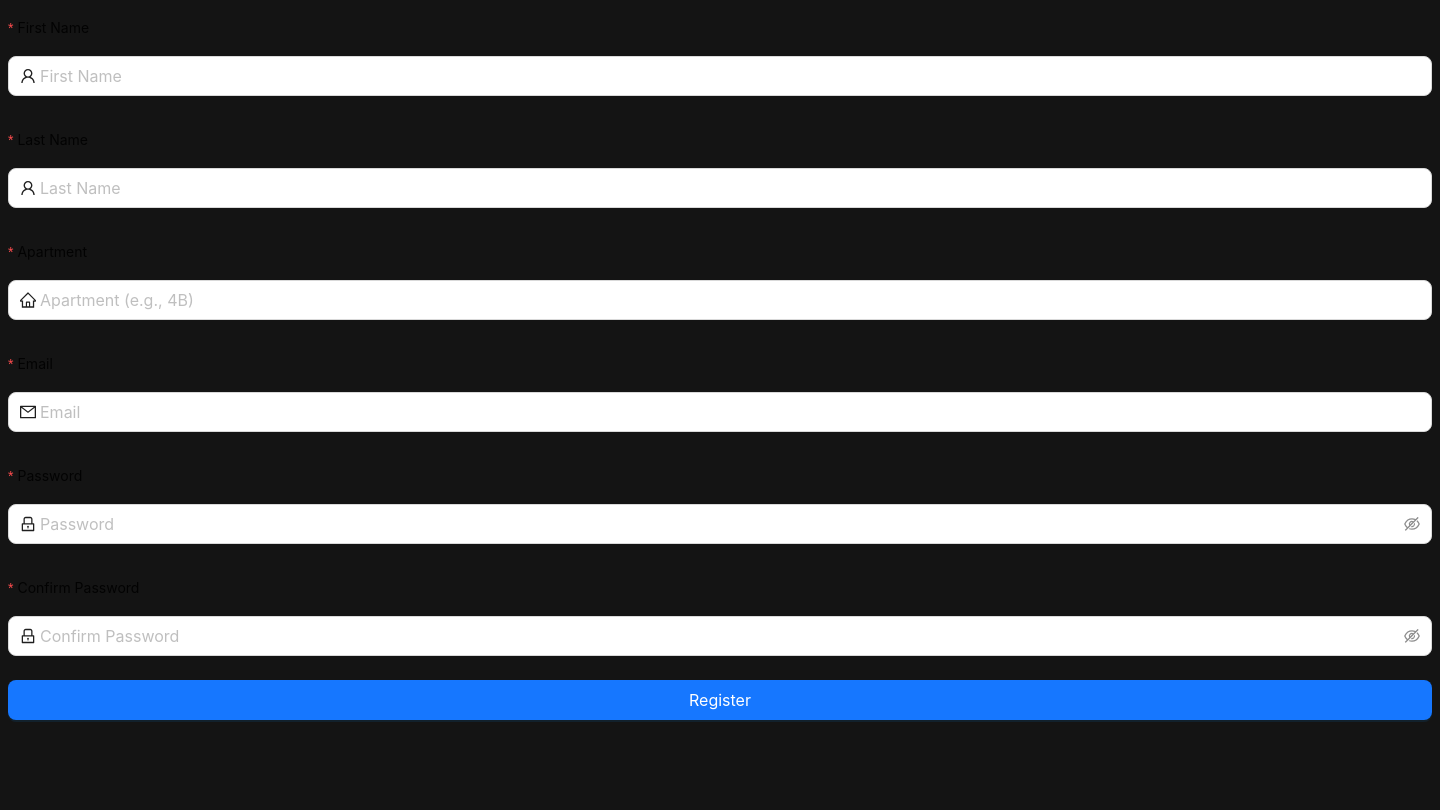
it: RegisterForm › should show an error when the password does not contain uppercase
Type "test123" into the password field labelled "Password" at (720, 524), box [40, 512, 1400, 536]
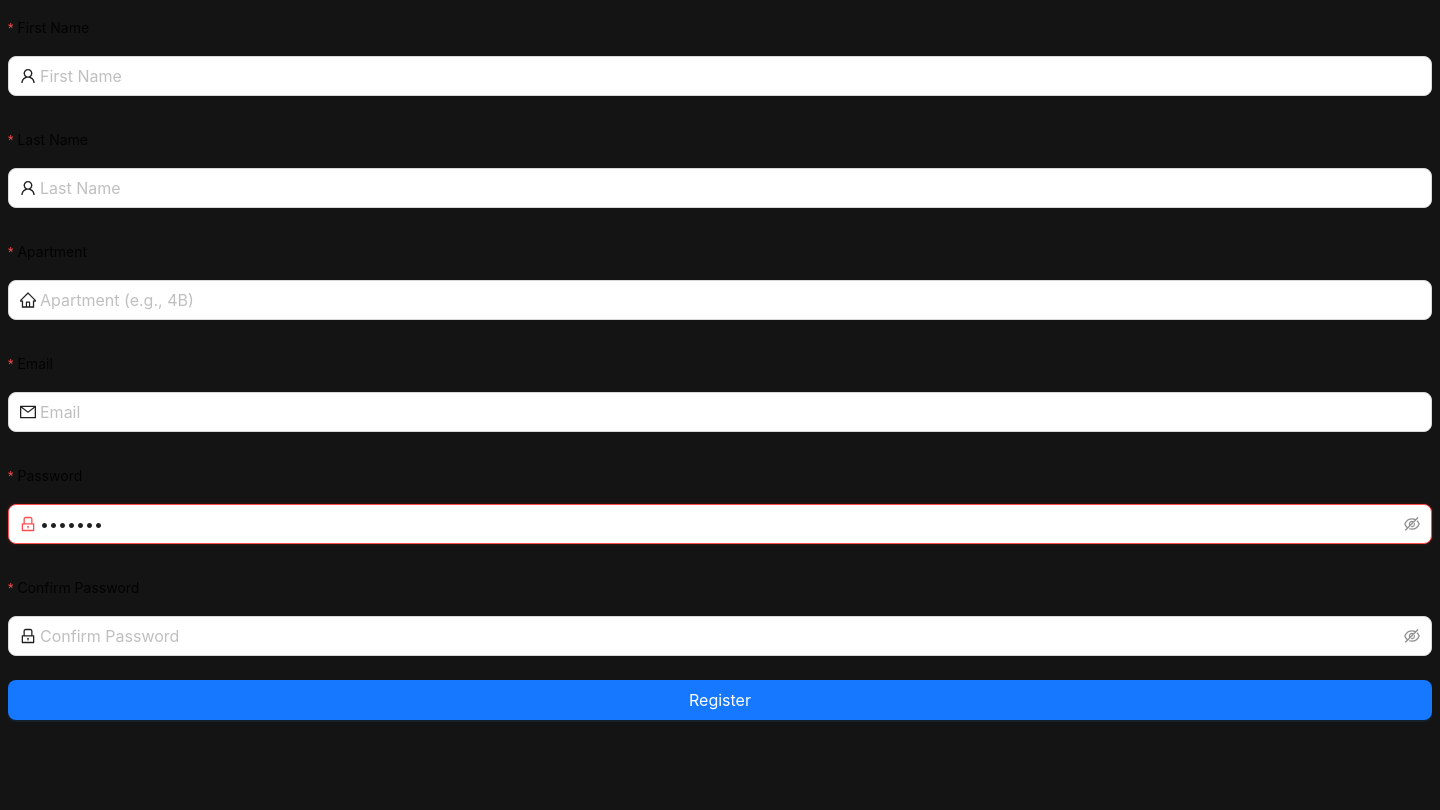
Click the button "Register" at (720, 700), box [8, 680, 1432, 720]
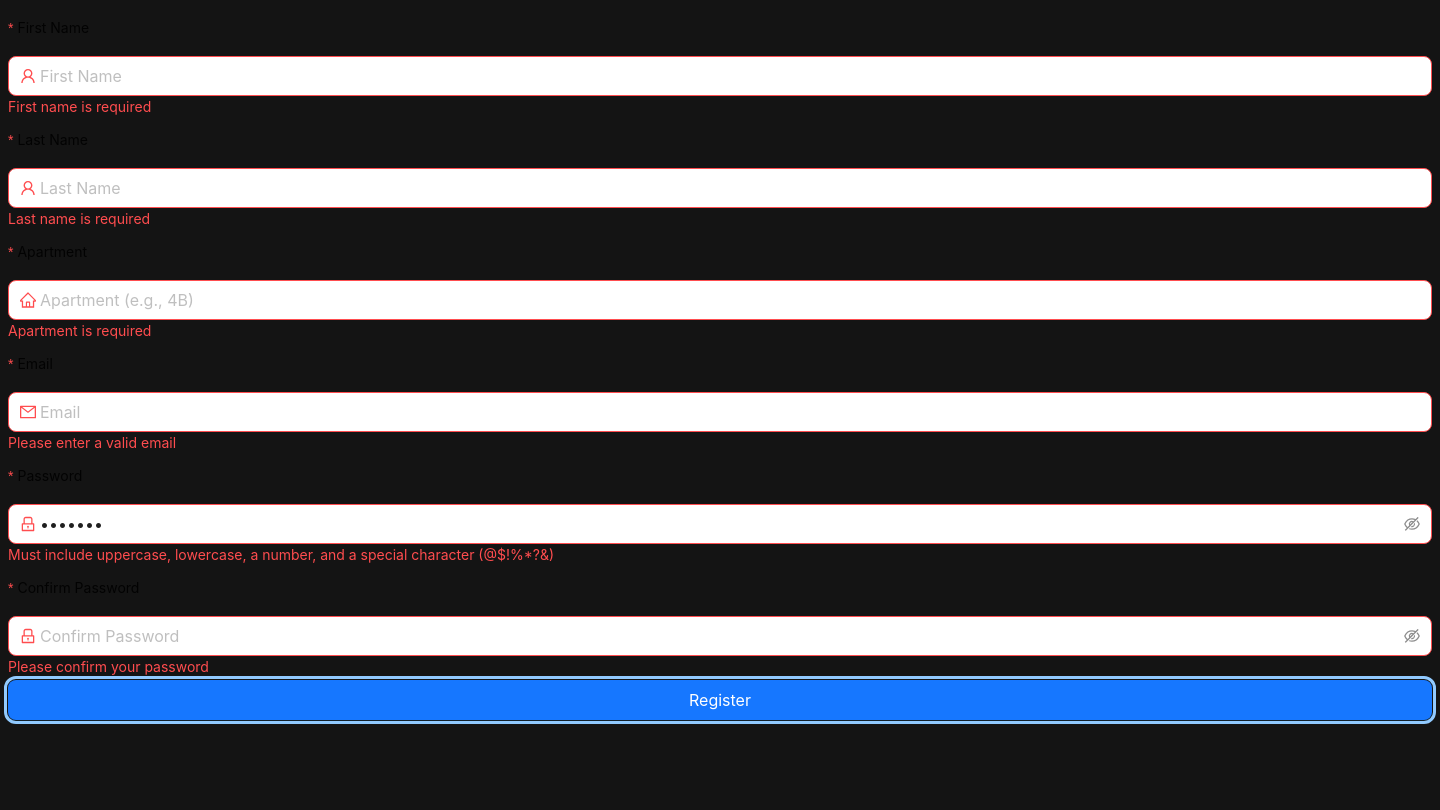
Now the text "Must include uppercase, lowercase, a number, and a special character (@$!%*?&)" is shown, box [8, 546, 554, 563]
